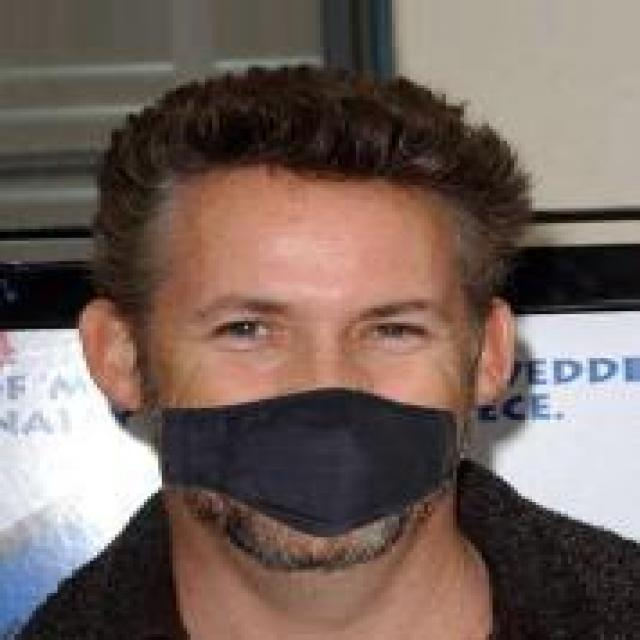mask: (51, 100, 546, 581)
